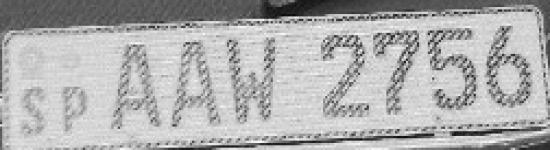2: (310, 27, 370, 120)
5: (424, 24, 482, 116)
6: (486, 20, 534, 111)
7: (370, 28, 420, 118)
A: (106, 35, 166, 136), (170, 36, 223, 135)
P: (58, 79, 90, 140)
S: (16, 80, 50, 143)
W: (224, 34, 282, 128)
